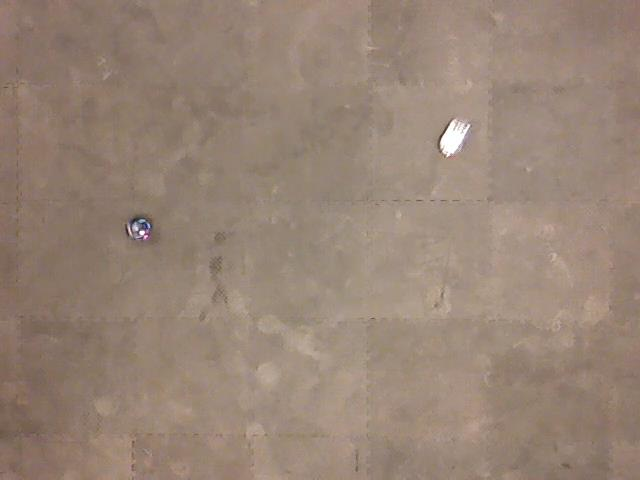Agent: (435, 116, 473, 158), (124, 215, 154, 245)
